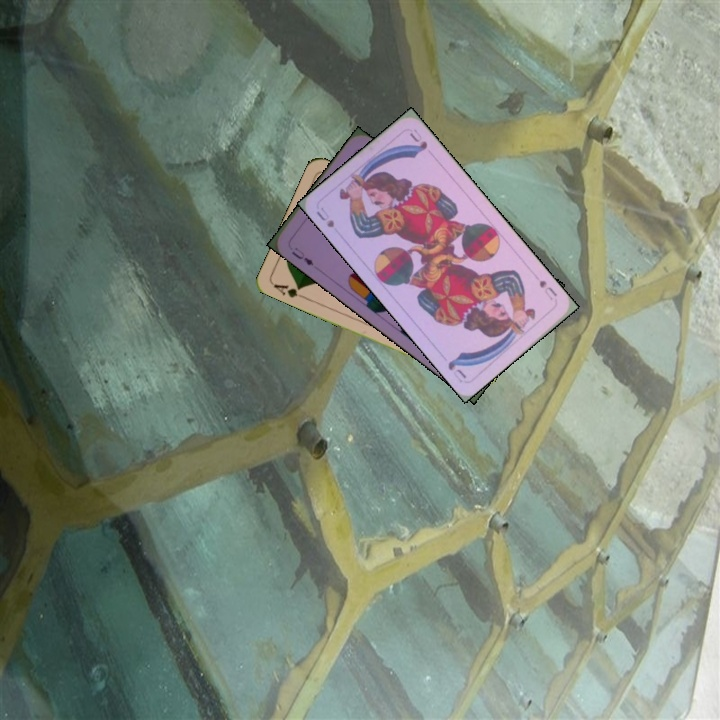EU: (287, 243, 316, 269)
GA: (269, 280, 308, 301)
SU: (530, 270, 560, 303), (312, 203, 337, 230)
